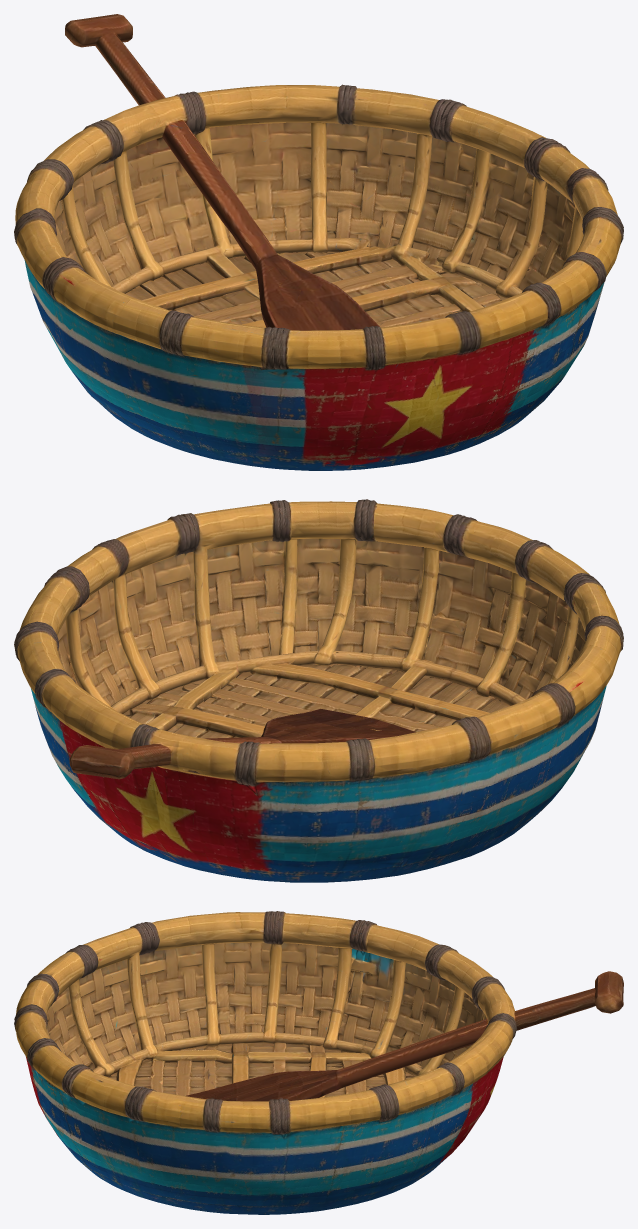
Rendered from thuyen-thung.glb.
The picture shows the model from 3 angles, top to bottom: view 1: azimuth 30°, elevation 25°; view 2: azimuth 150°, elevation 25°; view 3: azimuth 270°, elevation 25°; orthographic projection. The views are drawn at different scales.
Bounding box in the file's own units: 0.792 × 0.2858 × 0.9999.
1 material, 1 textured.
